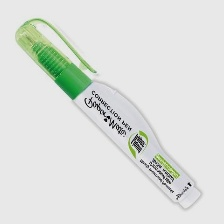correction_fluid: (11, 13, 202, 211)
